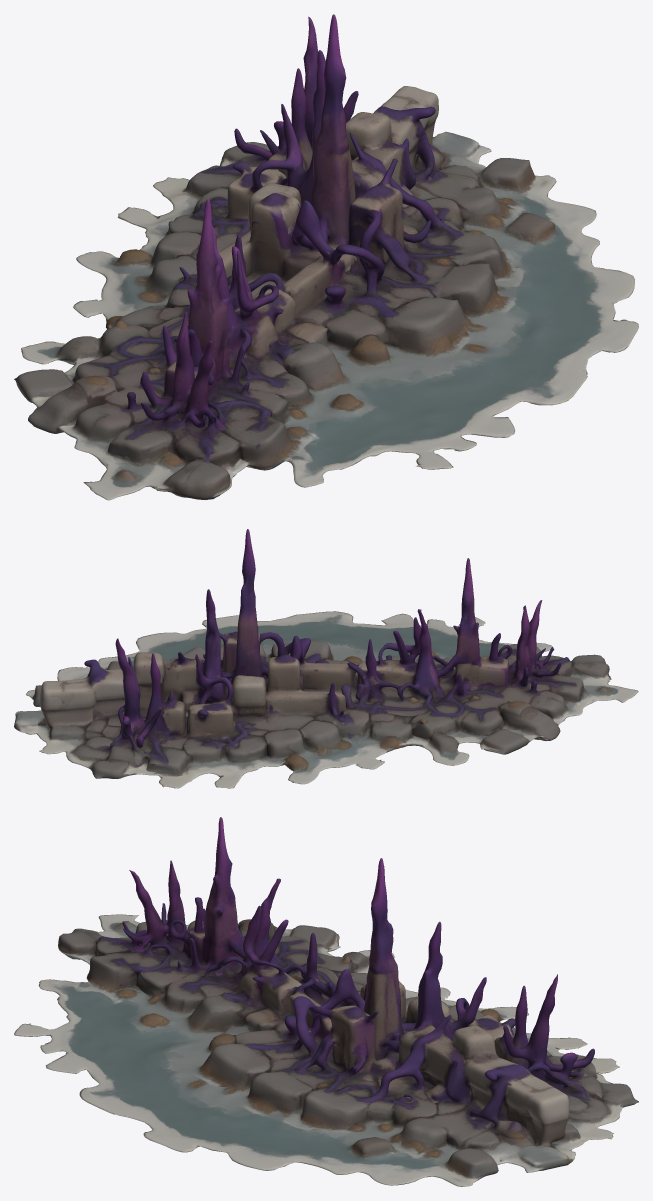
Rendered from SM_Environment_FantasyCrystalIsland_01.fbx.
3 renders of one model, top to bottom at view 1: azimuth 30°, elevation 25°; view 2: azimuth 150°, elevation 25°; view 3: azimuth 270°, elevation 25°, orthographic. The views are drawn at different scales.
Parts seen in each view (by area): view 1: SM_Environment_FantasyCrystalIsland_01; view 2: SM_Environment_FantasyCrystalIsland_01; view 3: SM_Environment_FantasyCrystalIsland_01.
Boxes of the visible parts, x1,y1,x2,y2 form: SM_Environment_FantasyCrystalIsland_01: [14, 14, 638, 500]; SM_Environment_FantasyCrystalIsland_01: [14, 529, 638, 788]; SM_Environment_FantasyCrystalIsland_01: [14, 817, 638, 1186].
Bounding box in the file's own units: 0.9912 × 0.3817 × 0.9701.
Materials: 1 (1 with a texture image).
